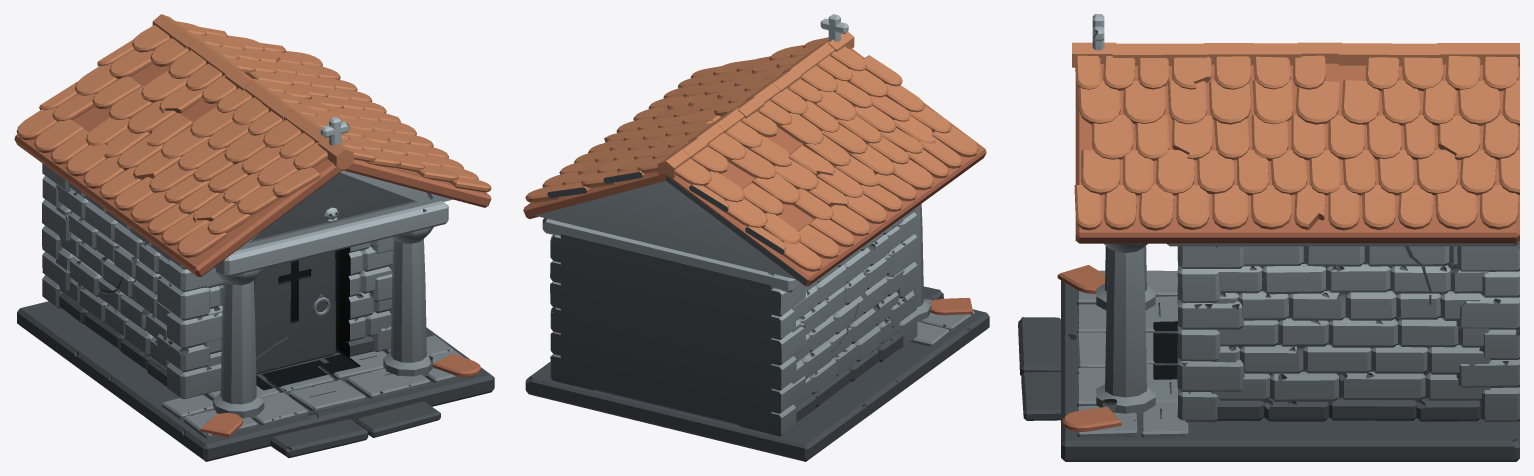
File: mausoleum.glb
3 views of the same model, side by side, from view 1: azimuth 30°, elevation 25°; view 2: azimuth 150°, elevation 25°; view 3: azimuth 270°, elevation 25° (orthographic). The views are drawn at different scales.
Parts seen in each view (by area): view 1: mausoleum; view 2: mausoleum; view 3: mausoleum.
Part boxes in pixels (x1=…): mausoleum: x1=14, y1=14, x2=494, y2=461; mausoleum: x1=523, y1=14, x2=989, y2=461; mausoleum: x1=1018, y1=14, x2=1519, y2=461.
Size of the model in its own units: 4.62 by 4.36 by 5.48.
Materials: 1 (1 with a texture image).
